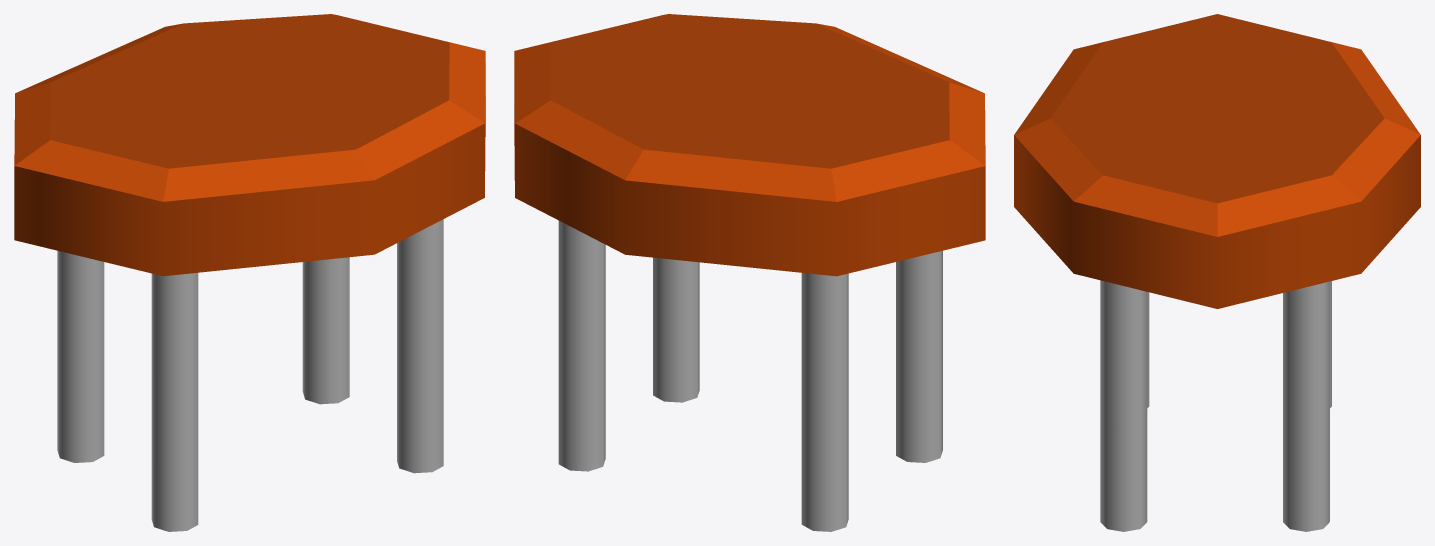
The model's file is Chair.fbx.
3 views of the same model, side by side, from view 1: azimuth 30°, elevation 25°; view 2: azimuth 150°, elevation 25°; view 3: azimuth 270°, elevation 25° (orthographic). The views are drawn at different scales.
Parts seen in each view (by area): view 1: Chair; view 2: Chair; view 3: Chair.
Boxes of the visible parts, x1,y1,x2,y2 form: Chair: (14,14,485,531); Chair: (514,14,985,531); Chair: (1014,14,1420,531).
Bounding box in the file's own units: 73.99 × 54.97 × 57.03.
